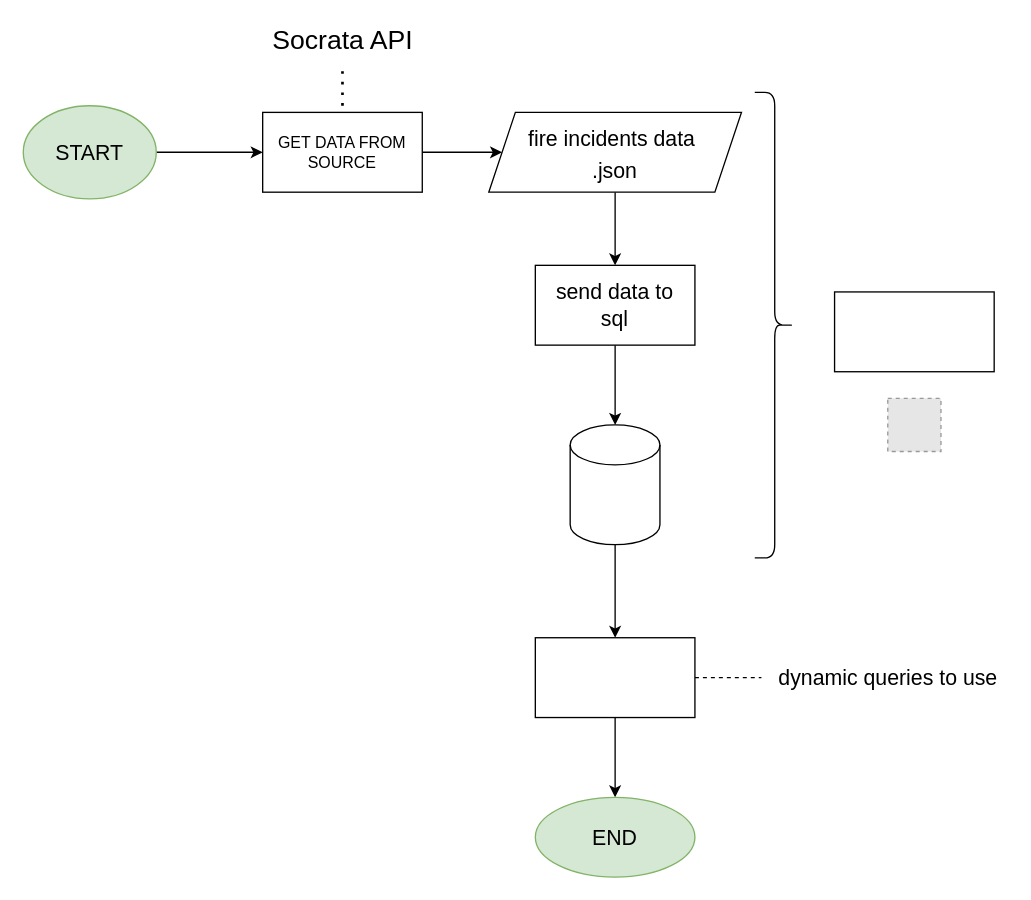
Image size: 1031x900. Some labels were removed from this diagram. Grey dashed boxes stand in for pictures. Here are the shapes that lost their labels. From the top down, the box of each, then its label:
(833, 291, 994, 372): Automate python script in Jenkins
(569, 424, 660, 545): DB
(534, 636, 695, 718): Stored Procedure
